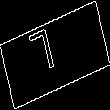L_S: (39, 26, 71, 84)
